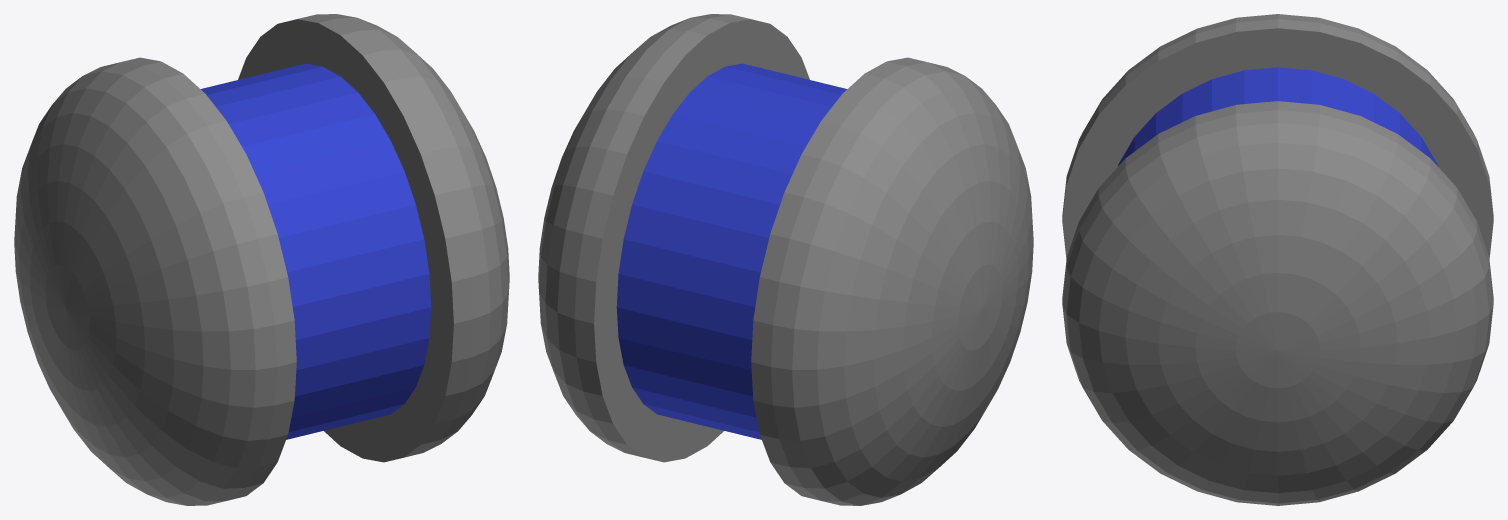
Rendered from WaterMod.fbx.
The picture shows the model from 3 angles, left to right: view 1: azimuth 30°, elevation 25°; view 2: azimuth 150°, elevation 25°; view 3: azimuth 270°, elevation 25°; orthographic projection. The views are drawn at different scales.
Parts seen in each view (by area): view 1: Sphere.005; view 2: Sphere.005; view 3: Sphere.005.
Boxes of the visible parts, x1,y1,x2,y2 form: Sphere.005: (14, 14, 509, 505); Sphere.005: (538, 14, 1033, 505); Sphere.005: (1062, 14, 1493, 505).
Size of the model in its own units: 20 by 20 by 20.
